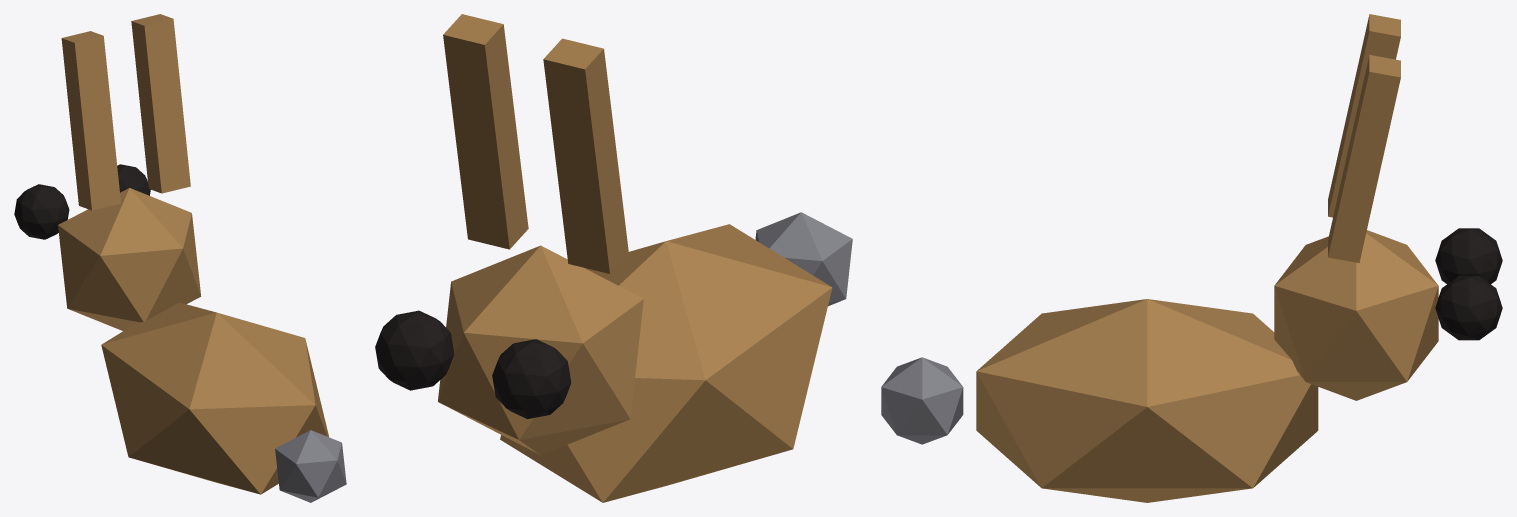
File: meadow_hare.obj
The picture shows the model from 3 angles, left to right: view 1: azimuth 30°, elevation 25°; view 2: azimuth 150°, elevation 25°; view 3: azimuth 270°, elevation 25°; orthographic projection. The views are drawn at different scales.
Parts seen in each view (by area): view 1: part_0, part_1, part_3, part_2, part_4, part_5, part_6; view 2: part_0, part_1, part_2, part_3, part_5, part_6, part_4; view 3: part_0, part_1, part_3, part_4, part_6, part_2, part_5.
Part boxes in pixels (<box>): part_0: <box>101,302,328,494</box>; part_1: <box>58,188,201,330</box>; part_3: <box>131,14,190,193</box>; part_2: <box>61,31,120,210</box>; part_4: <box>275,430,346,502</box>; part_5: <box>14,184,69,239</box>; part_6: <box>117,164,150,195</box>; part_0: <box>500,224,832,502</box>; part_1: <box>438,245,643,455</box>; part_2: <box>543,38,628,273</box>; part_3: <box>443,14,528,249</box>; part_5: <box>492,339,571,418</box>; part_6: <box>375,310,454,390</box>; part_4: <box>755,212,852,306</box>; part_0: <box>976,299,1318,502</box>; part_1: <box>1274,230,1438,400</box>; part_3: <box>1328,55,1400,263</box>; part_4: <box>881,357,963,444</box>; part_6: <box>1435,276,1502,340</box>; part_2: <box>1328,14,1400,217</box>; part_5: <box>1435,228,1502,283</box>.
Size of the model in its own units: 0.3041 by 0.6314 by 0.773.
